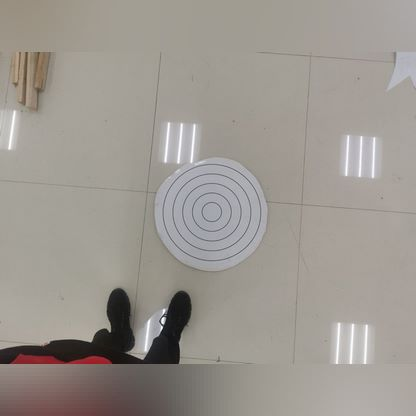circle: (151, 154, 266, 268)
